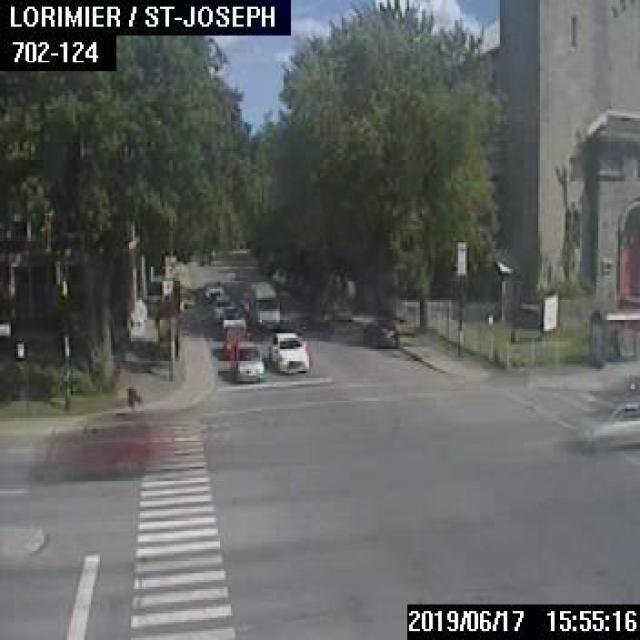vehicle: (36, 412, 149, 482), (580, 400, 638, 447), (270, 330, 308, 372), (248, 280, 278, 328), (231, 340, 262, 378), (362, 317, 397, 347), (219, 323, 249, 354), (211, 296, 236, 320), (218, 307, 246, 328), (322, 300, 350, 319), (202, 279, 223, 299), (271, 267, 281, 282), (240, 291, 248, 309)
